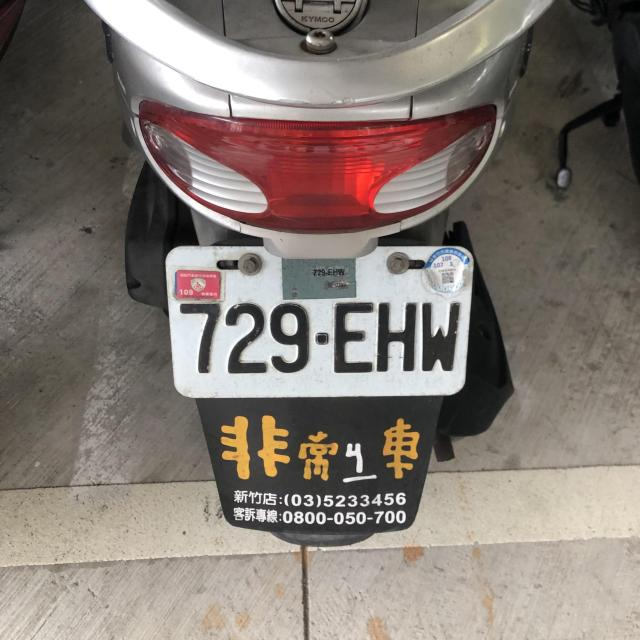W: (157, 230, 480, 404)
